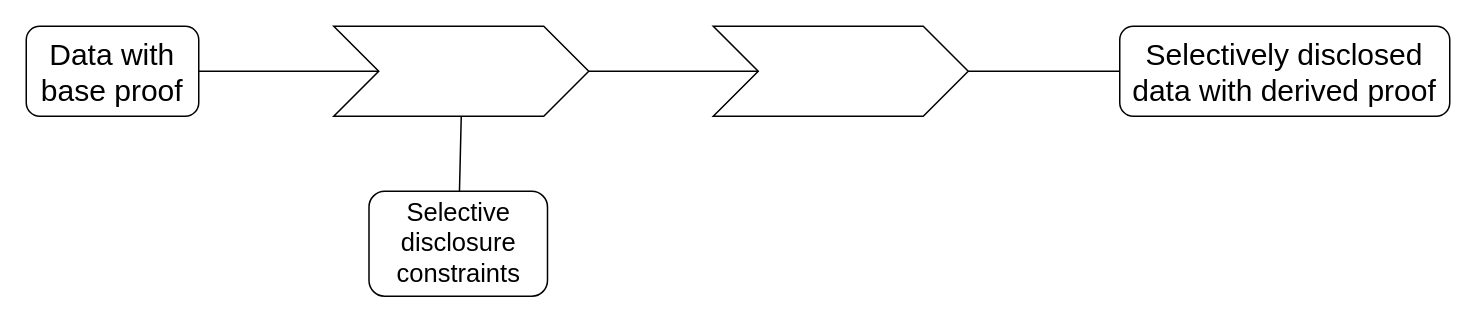
This 1476x323 diagram has some shape labels left out. The shapes that lost their labels are listed below. From the top down, each one's box as (x1, y1, x2, y2) in pixels, then its label:
(332, 25, 589, 116): Transform data
(712, 25, 968, 116): Generate derived proof
